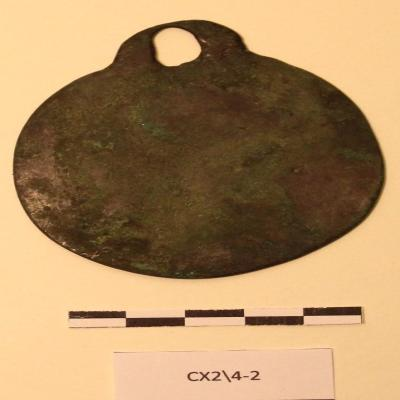archeology: (12, 20, 387, 281)
